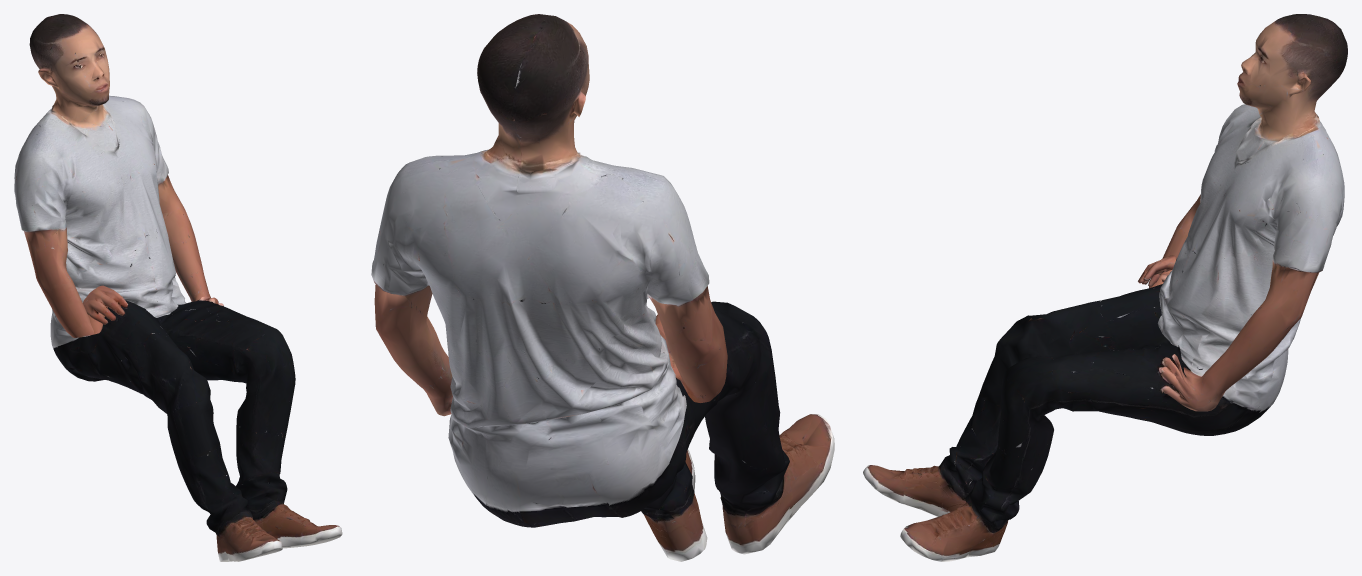
The model's file is driver.glb.
3 views of the same model, side by side, from view 1: azimuth 30°, elevation 25°; view 2: azimuth 150°, elevation 25°; view 3: azimuth 270°, elevation 25° (orthographic). The views are drawn at different scales.
Visible parts, largest first — view 1: Object_5; view 2: Object_5; view 3: Object_5.
Part boxes in pixels (x1,y1,x2,y2): Object_5: (14,14,342,561); Object_5: (371,14,834,561); Object_5: (863,14,1347,561).
Bounding box in the file's own units: 0.6022 × 1.39 × 1.21.
Materials: 1 (1 with a texture image).
